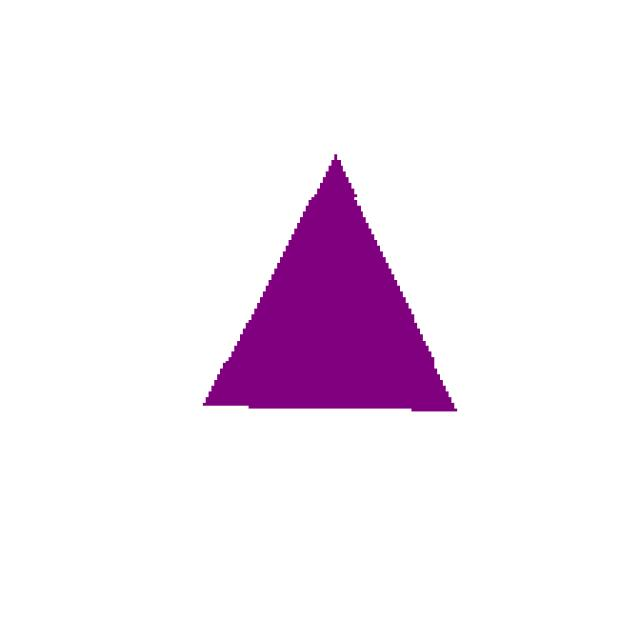Triangle: (186, 133, 527, 463)
